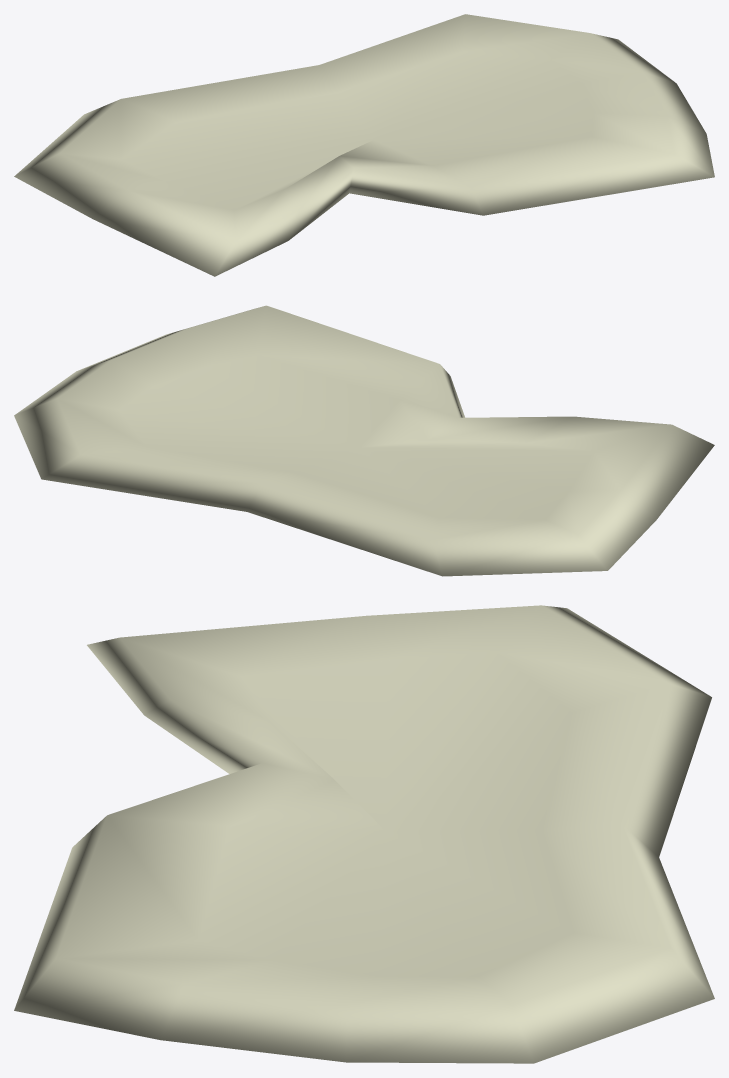
File: cloth_sheet.fbx
3 views of the same model, one above another, from view 1: azimuth 30°, elevation 25°; view 2: azimuth 150°, elevation 25°; view 3: azimuth 270°, elevation 25° (orthographic). The views are drawn at different scales.
Parts seen in each view (by area): view 1: Line007; view 2: Line007; view 3: Line007.
Boxes of the visible parts, x1,y1,x2,y2 form: Line007: (14, 14, 714, 276); Line007: (14, 305, 714, 576); Line007: (14, 605, 714, 1063).
Size of the model in its own units: 99.03 by 3.21 by 64.42.
